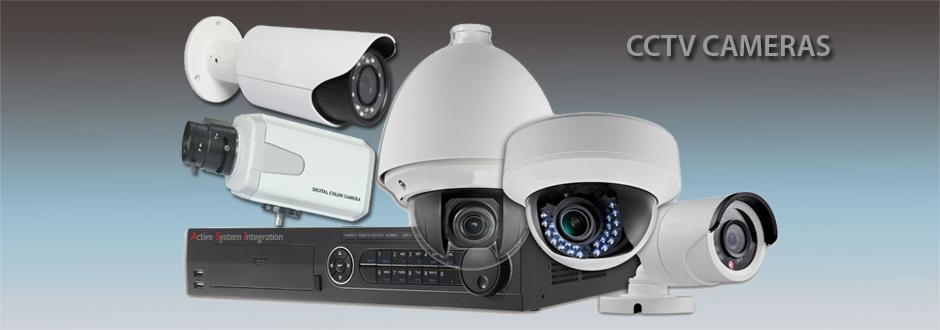CCTV: (505, 113, 682, 269), (184, 15, 396, 126), (381, 158, 529, 286)
